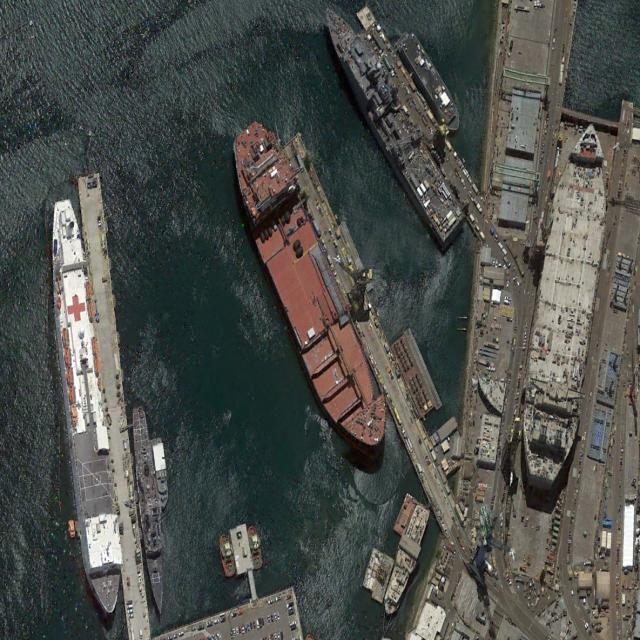Auxiliary Ships: (41, 195, 130, 618)
Cargo: (218, 104, 399, 472), (512, 113, 619, 496)
Frigate: (130, 407, 169, 618)
Hovercraft: (215, 531, 236, 579), (246, 523, 266, 572)
Landing: (316, 1, 469, 249)
Other Ship: (392, 21, 468, 137), (378, 499, 431, 620), (151, 436, 171, 510)
